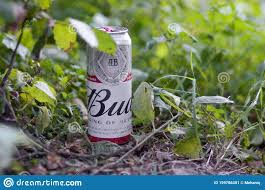can: (87, 26, 132, 142)
